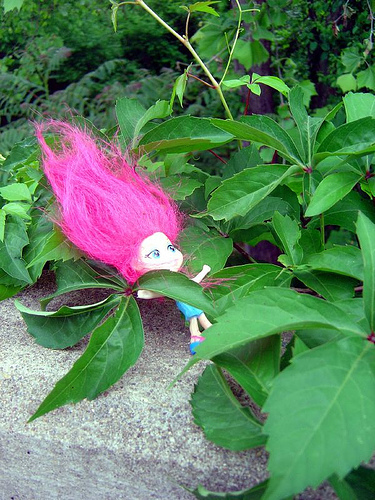litter: (30, 112, 222, 351)
